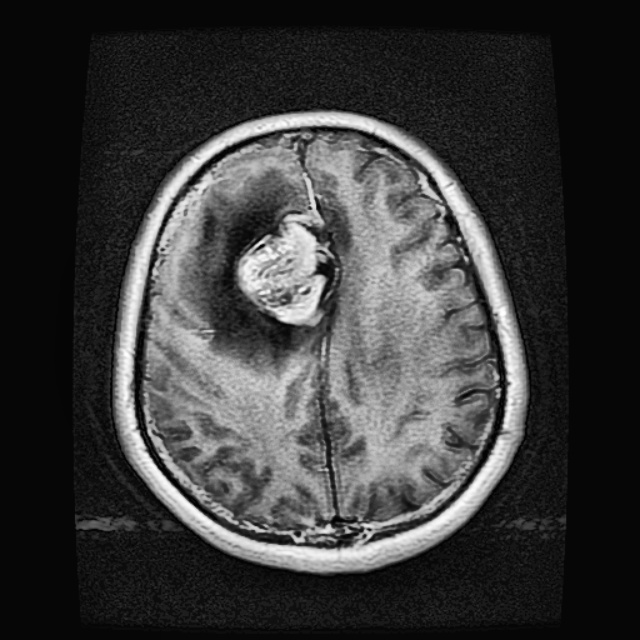Pituitary: (233, 219, 333, 325)
